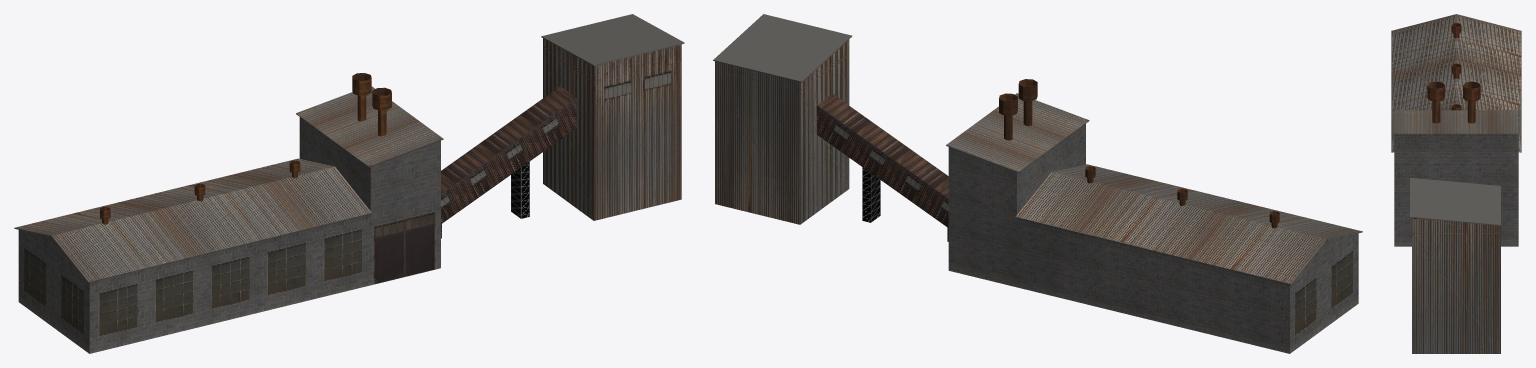
File: ps1_style_factory_building.glb
3 renders of one model, left to right at view 1: azimuth 30°, elevation 25°; view 2: azimuth 150°, elevation 25°; view 3: azimuth 270°, elevation 25°, orthographic. The views are drawn at different scales.
Visible parts, largest first — view 1: Factory_Building_Main, Roof_01, Steel_Construction, Factory_Building_Main_1, Steel_Construction_1, Roof_02, Roof_03, Chimney_Big, Steel_Construction_Beam, Chimney_Small; view 2: Factory_Building_Main, Roof_01, Steel_Construction, Factory_Building_Main_1, Steel_Construction_1, Roof_03, Roof_02, Chimney_Big, Steel_Construction_Beam; view 3: Steel_Construction, Roof_01, Factory_Building_Main_1, Roof_03, Roof_02, Chimney_Big, Chimney_Small.
Boxes of the visible parts, x1=… form: Factory_Building_Main: x1=18, y1=214, x2=370, y2=353; Roof_01: x1=14, y1=158, x2=372, y2=282; Steel_Construction: x1=543, y1=38, x2=681, y2=220; Factory_Building_Main_1: x1=299, y1=117, x2=440, y2=285; Steel_Construction_1: x1=441, y1=86, x2=576, y2=223; Roof_02: x1=296, y1=86, x2=443, y2=167; Roof_03: x1=541, y1=14, x2=684, y2=65; Chimney_Big: x1=352, y1=73, x2=391, y2=136; Steel_Construction_Beam: x1=511, y1=161, x2=529, y2=218; Chimney_Small: x1=100, y1=160, x2=300, y2=224; Factory_Building_Main: x1=1017, y1=218, x2=1358, y2=353; Roof_01: x1=1015, y1=164, x2=1362, y2=284; Steel_Construction: x1=715, y1=39, x2=849, y2=224; Factory_Building_Main_1: x1=948, y1=124, x2=1085, y2=287; Steel_Construction_1: x1=817, y1=94, x2=948, y2=227; Roof_03: x1=713, y1=14, x2=852, y2=82; Roof_02: x1=946, y1=93, x2=1089, y2=172; Chimney_Big: x1=999, y1=79, x2=1037, y2=140; Steel_Construction_Beam: x1=862, y1=167, x2=880, y2=222; Steel_Construction: x1=1412, y1=218, x2=1500, y2=353; Roof_01: x1=1391, y1=14, x2=1521, y2=152; Factory_Building_Main_1: x1=1394, y1=134, x2=1518, y2=246; Roof_03: x1=1410, y1=177, x2=1500, y2=225; Roof_02: x1=1392, y1=110, x2=1520, y2=134; Chimney_Big: x1=1427, y1=81, x2=1480, y2=123; Chimney_Small: x1=1451, y1=23, x2=1461, y2=110.
Bounding box in the file's own units: 69.06 × 18.2 × 14.63.
3 materials, 3 textured.
